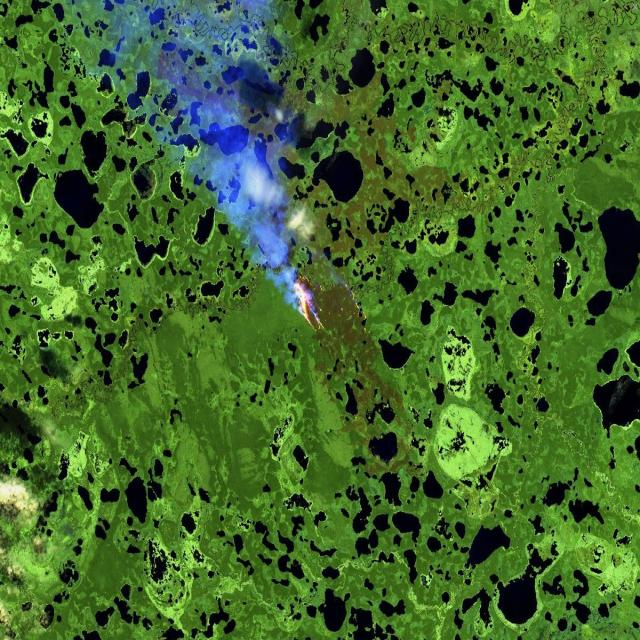fire: (285, 260, 376, 348)
